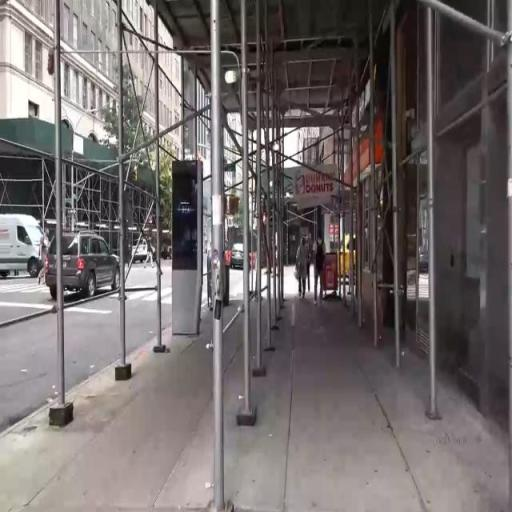person: (315, 227, 336, 316), (295, 230, 315, 309), (40, 235, 51, 290)
